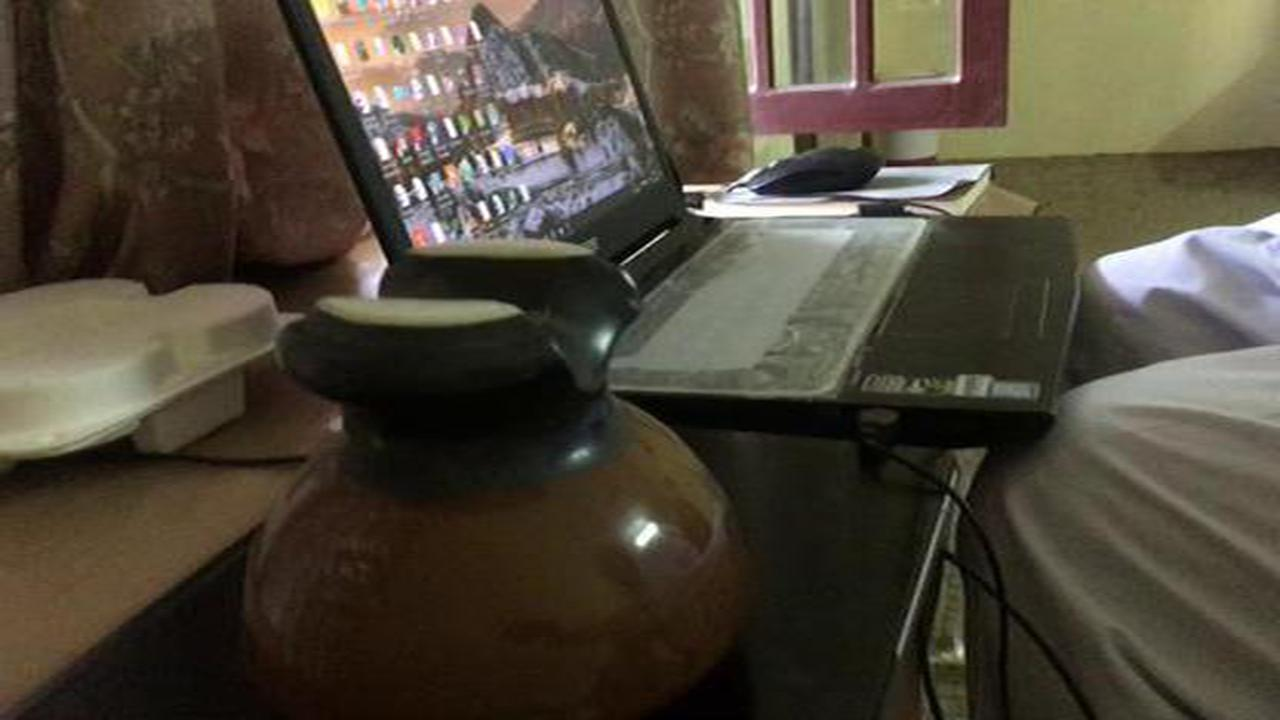insulator_pin: (197, 229, 785, 719)
